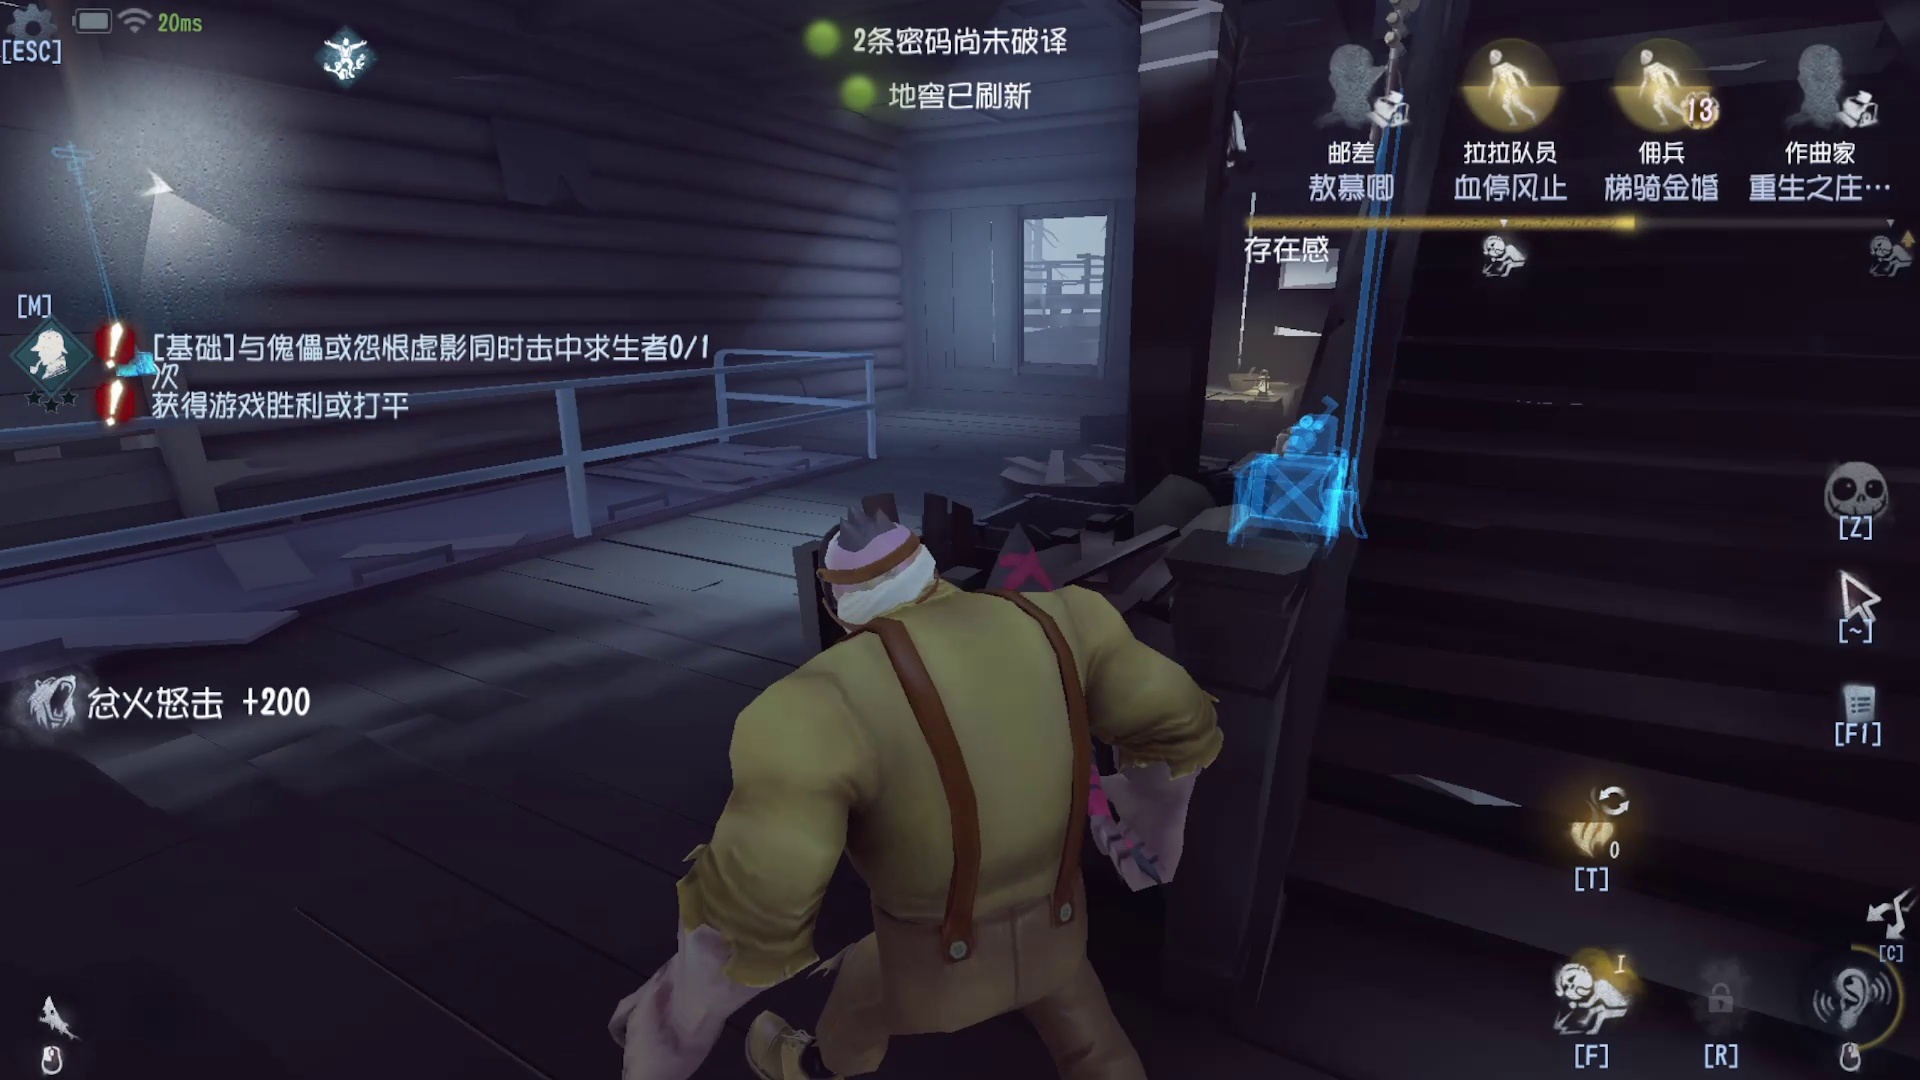密码机: (1175, 105, 1402, 564)
